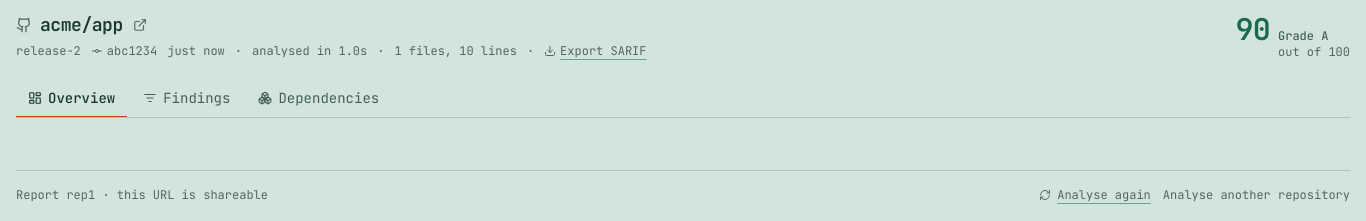
it: Analyse again › shows the reason when the server refuses
Click the button "Analyse again".
click(1095, 195)  # box [1039,187,1151,203]
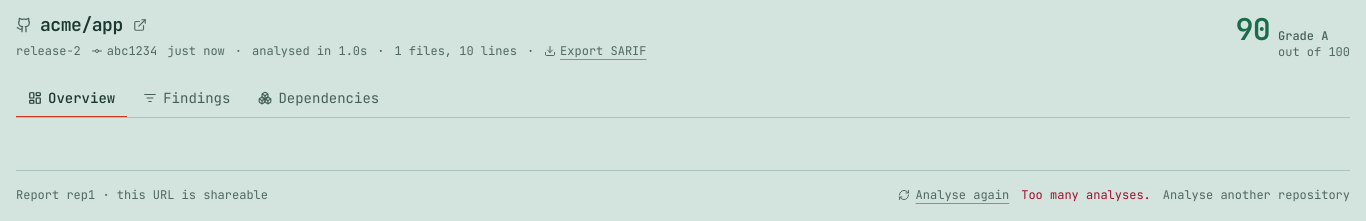
Expected: the message reads "Too many analyses.", [1021,187,1151,203]
